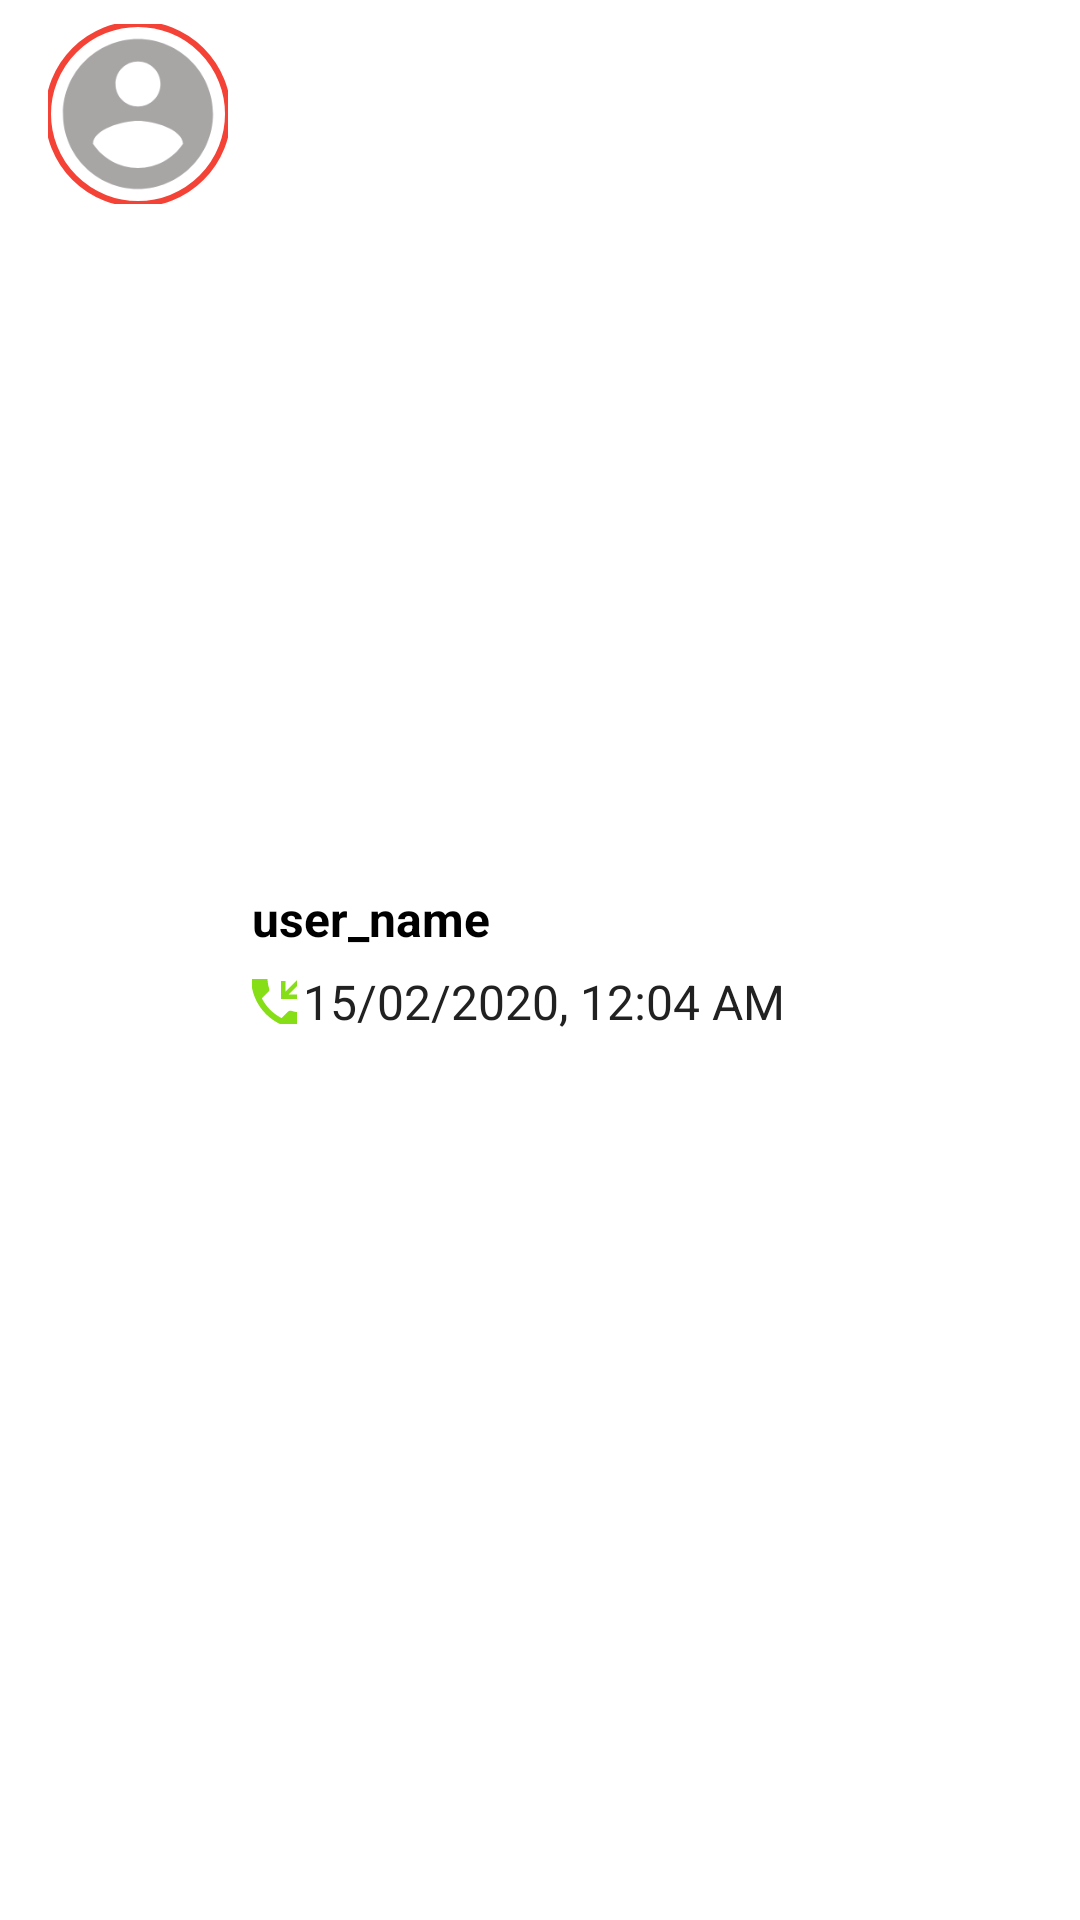

Where icons sit on this 1080w x 1920h app screen, as (x1, y1, x2, y2):
phone incoming: (252, 979, 297, 1024)
place holder: (48, 24, 228, 204)
